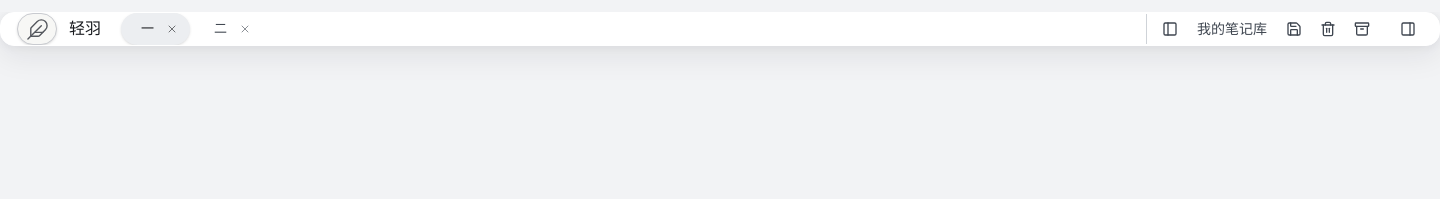
Test case: Topbar 标签菜单 › 最左侧标签不显示关闭左侧
Right-click the button "一" at (148, 29), box [133,14,162,44]
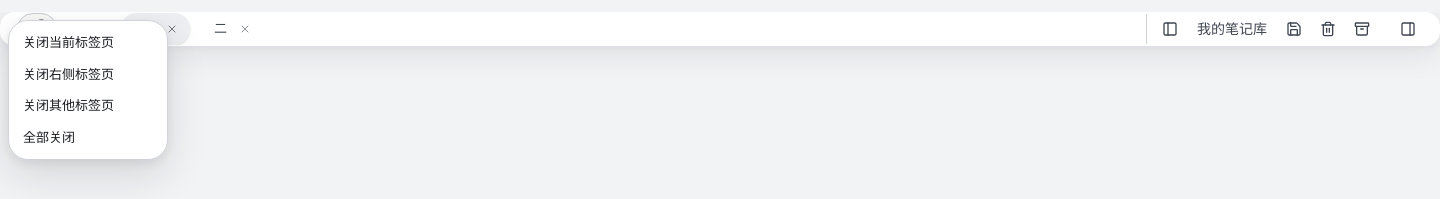
Expected: the button "关闭右侧标签页" is shown, [15,58,161,90]
